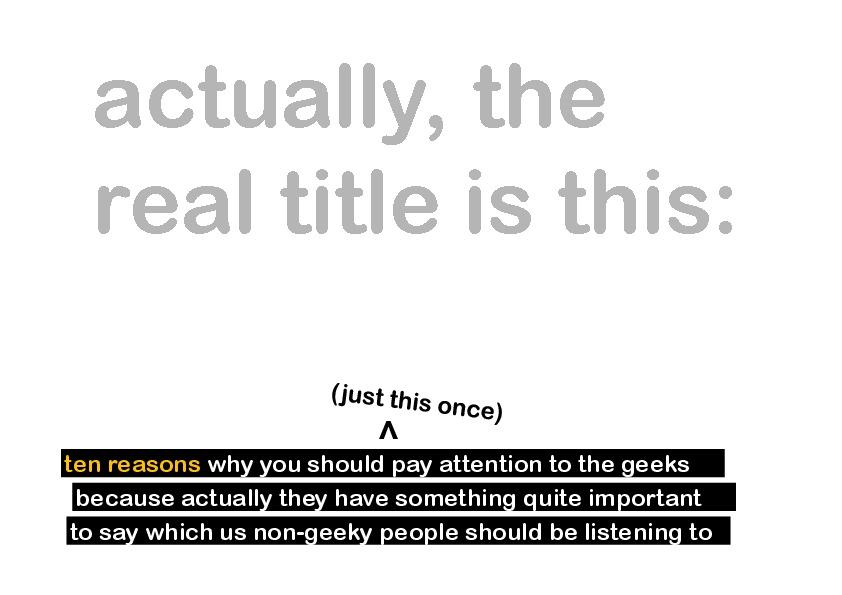paragraph: (44, 343, 773, 560)
title: (82, 36, 758, 273)
